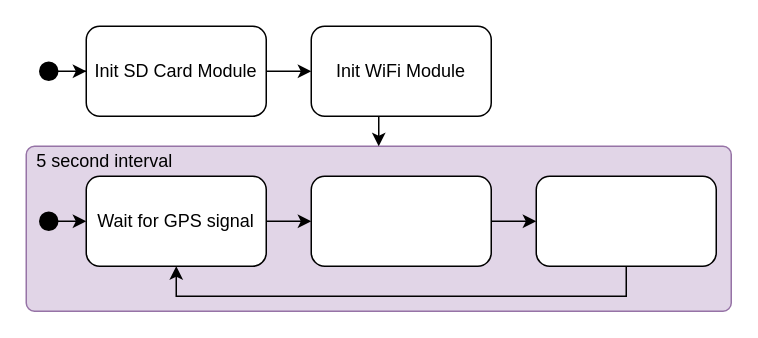
Some shapes in this 758 by 338 pixel diagram are drawn without their labels. Here are the shapes that lost their labels. From the top down, the centre of each, then its label:
At pixel 400 220: "Scan Beacons".
At pixel 625 220: "Write APs to SD card".
